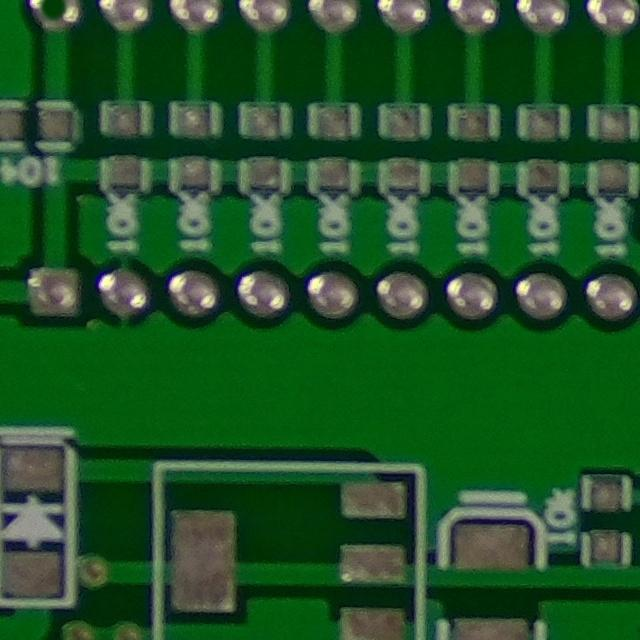missing_hole: (21, 0, 91, 40)
